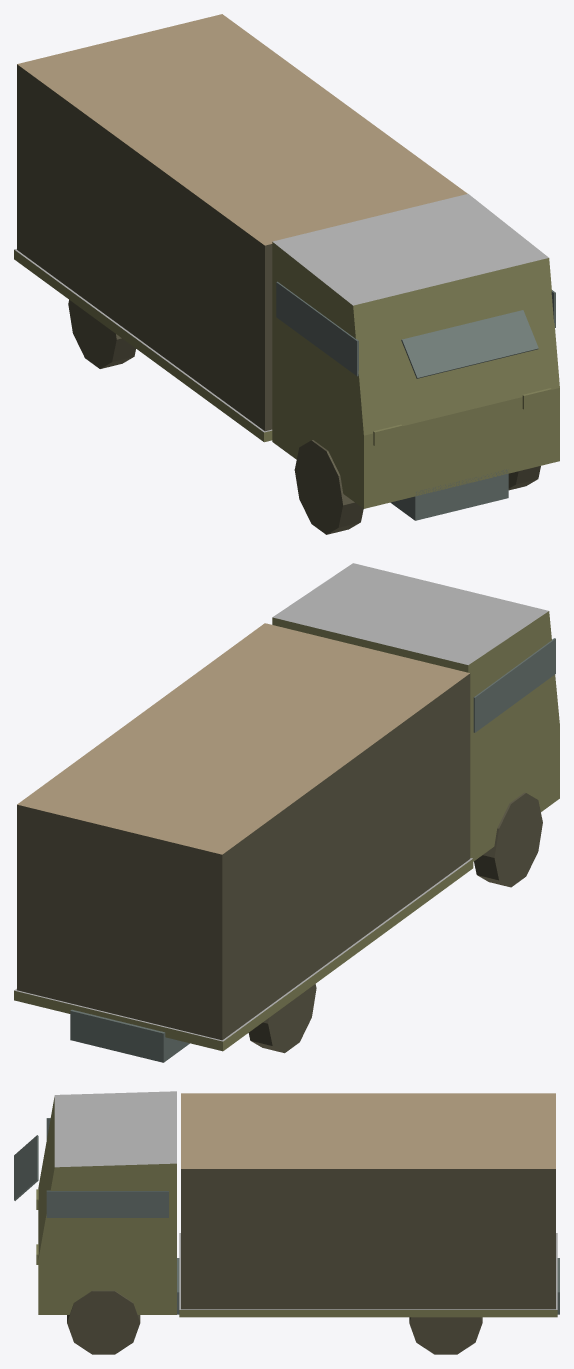
File: SM_CocheCivil_Camion_v0_LOD0.fbx
3 views of the same model, one above another, from view 1: azimuth 30°, elevation 25°; view 2: azimuth 150°, elevation 25°; view 3: azimuth 270°, elevation 25° (orthographic). The views are drawn at different scales.
Parts seen in each view (by area): view 1: SM_coche_civil_v20_LOD0; view 2: SM_coche_civil_v20_LOD0; view 3: SM_coche_civil_v20_LOD0.
Part boxes in pixels (x1,y1,x2,y2): SM_coche_civil_v20_LOD0: (14,14,559,534); SM_coche_civil_v20_LOD0: (14,563,559,1062); SM_coche_civil_v20_LOD0: (14,1091,559,1354).
Size of the model in its own units: 2.24 by 2.58 by 6.7.
